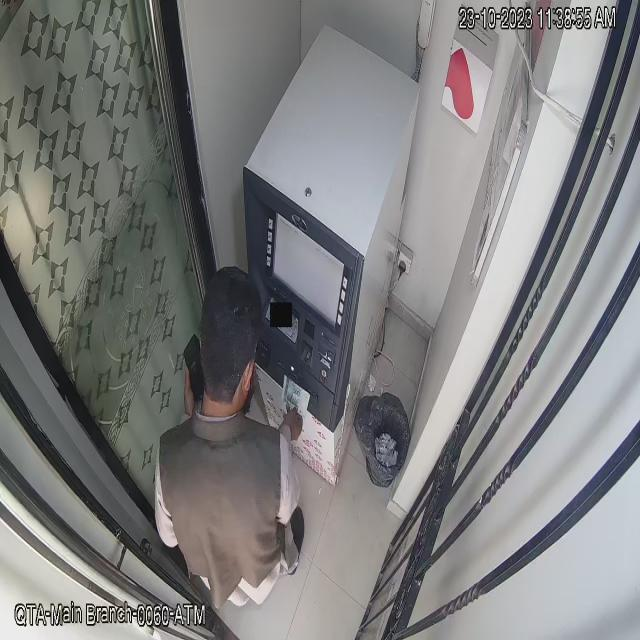note: (279, 370, 312, 417)
